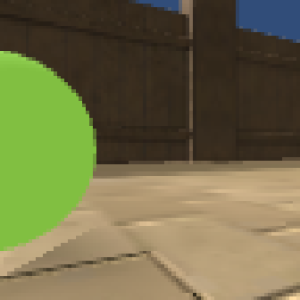goodGoal: (1, 49, 98, 254)
